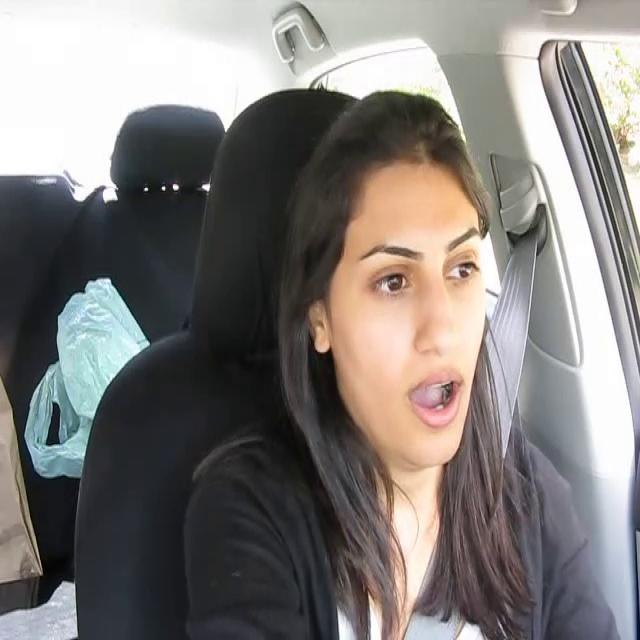open: (404, 368, 466, 430)
